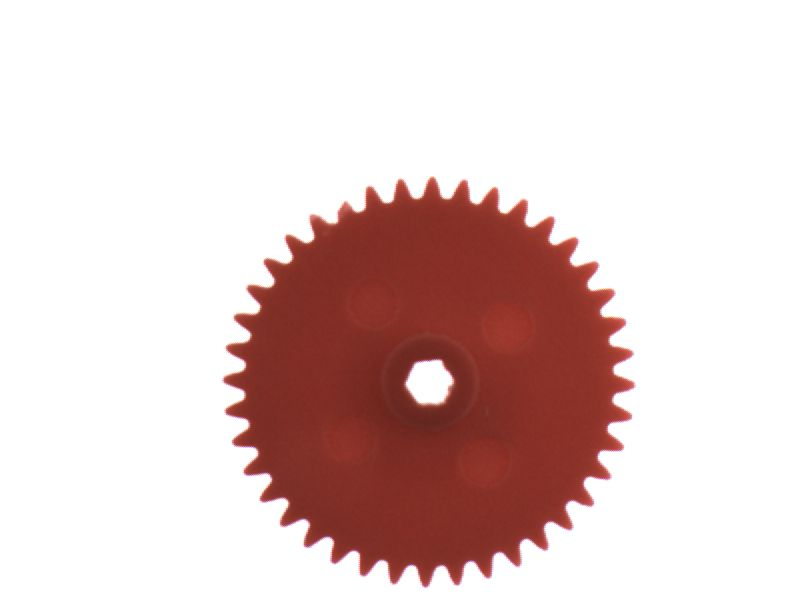defect_break: (320, 172, 363, 230)
